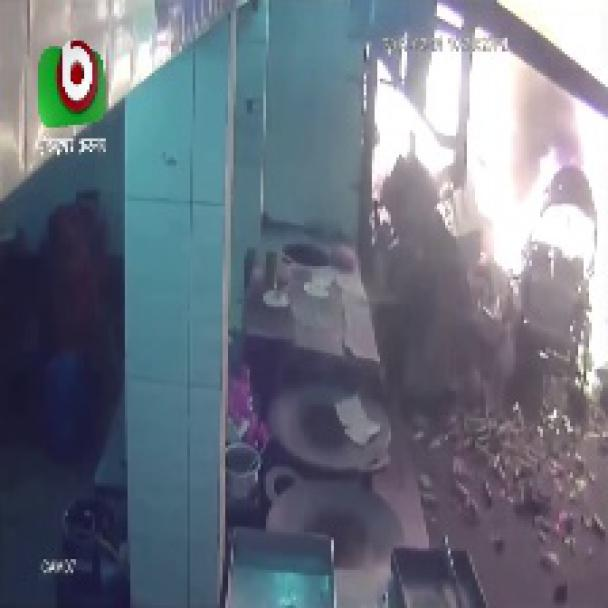Fire: (374, 0, 607, 474)
